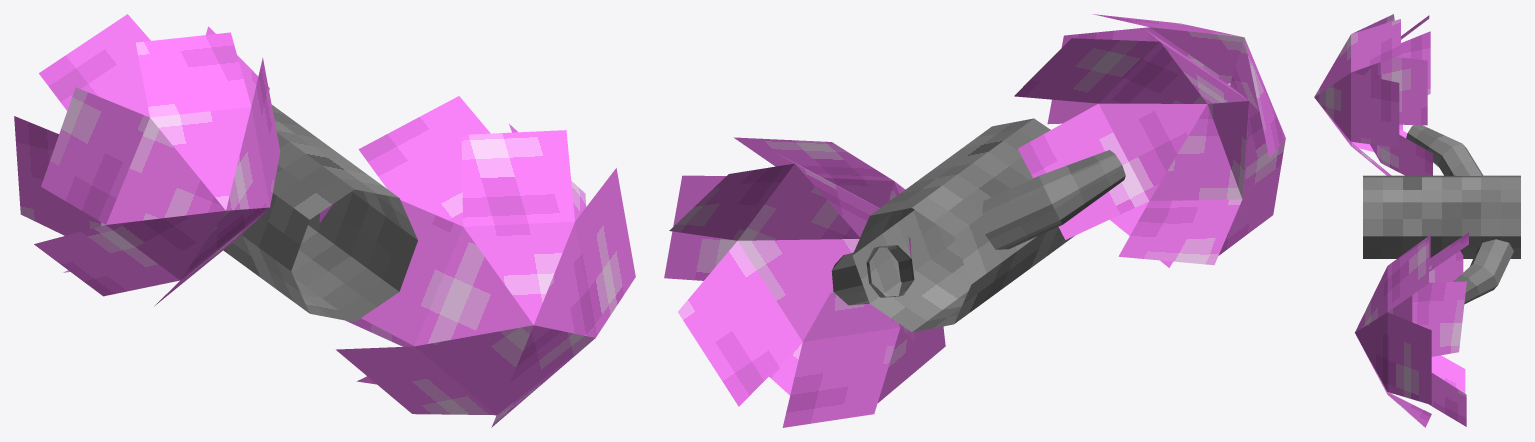
Rendered from tree-moon-center.glb.
3 renders of one model, left to right at view 1: azimuth 30°, elevation 25°; view 2: azimuth 150°, elevation 25°; view 3: azimuth 270°, elevation 25°, orthographic. The views are drawn at different scales.
Visible parts, largest first — view 1: tree-moon-center; view 2: tree-moon-center; view 3: tree-moon-center.
Part boxes in pixels (left/top/right/bottom): tree-moon-center: left=14, top=14, right=635, bottom=427; tree-moon-center: left=664, top=14, right=1285, bottom=427; tree-moon-center: left=1314, top=14, right=1520, bottom=427.
Bounding box in the file's own units: 2.77 × 2.12 × 1.31.
Materials: 1 (1 with a texture image).
